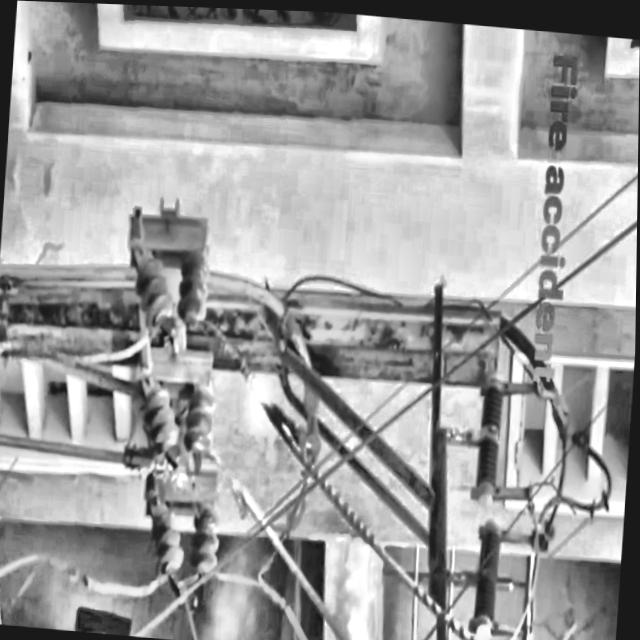Fire: (237, 355, 288, 436)
